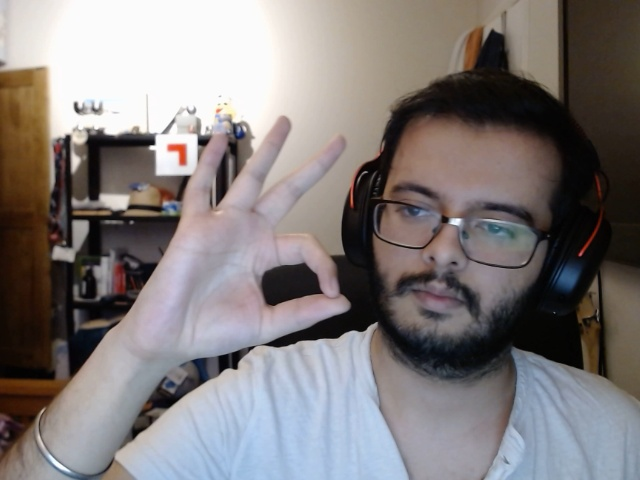Okay: (123, 103, 356, 375)
